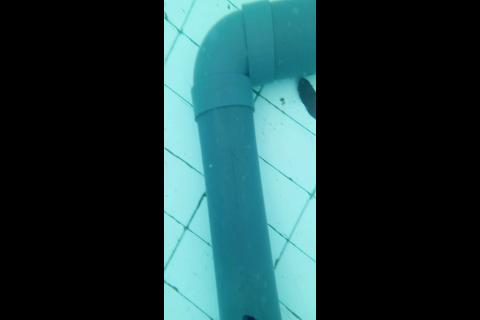kebocoran: (242, 313, 255, 320)
